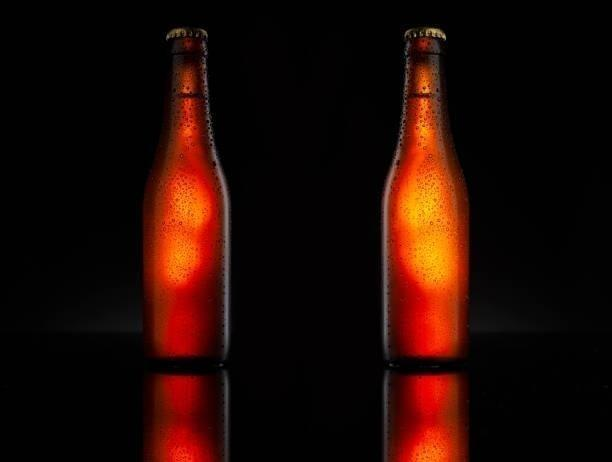bottle-glass: (136, 23, 237, 371), (375, 23, 476, 369)
